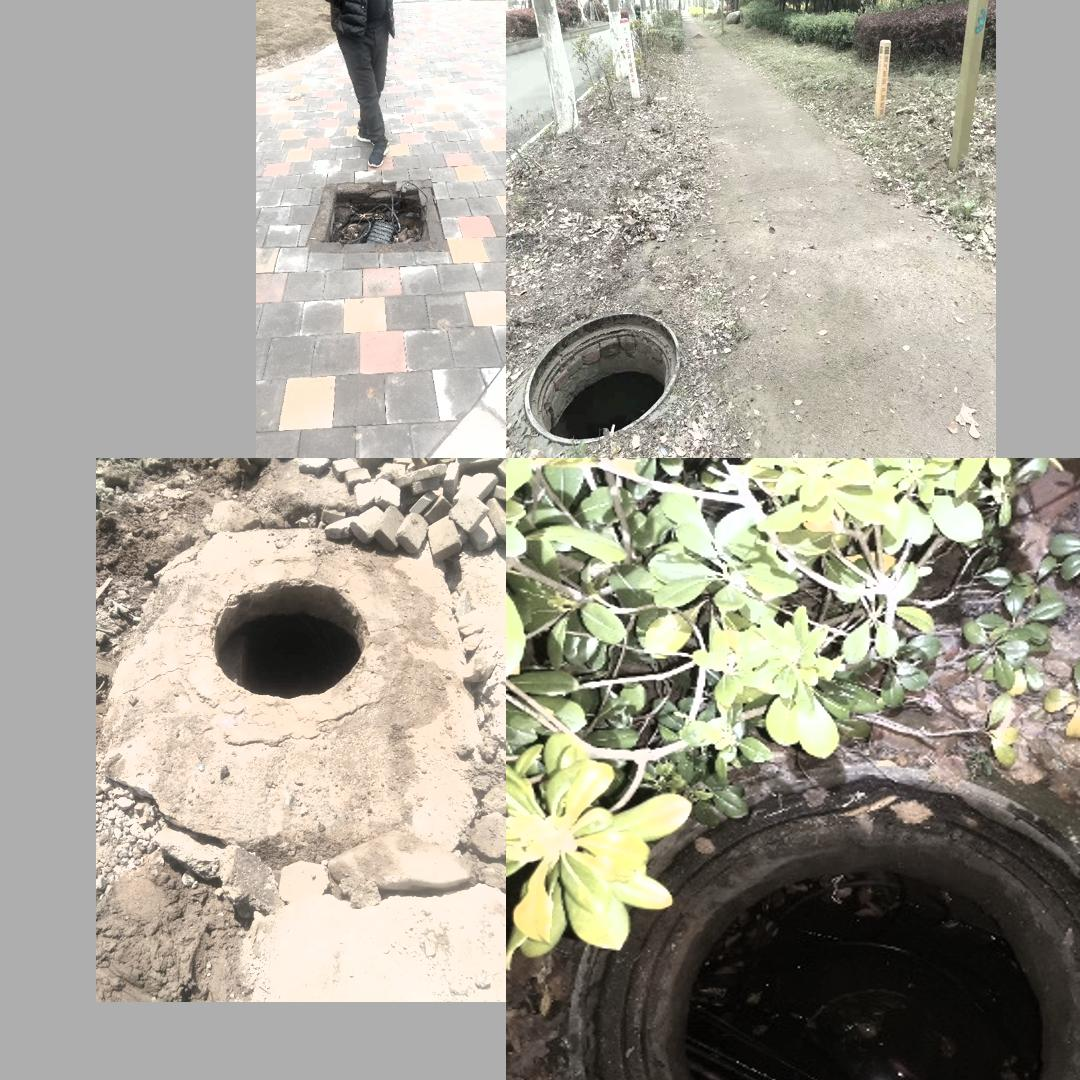lose: (567, 758, 1080, 1080), (523, 309, 682, 442), (208, 578, 368, 700), (322, 188, 434, 244)
